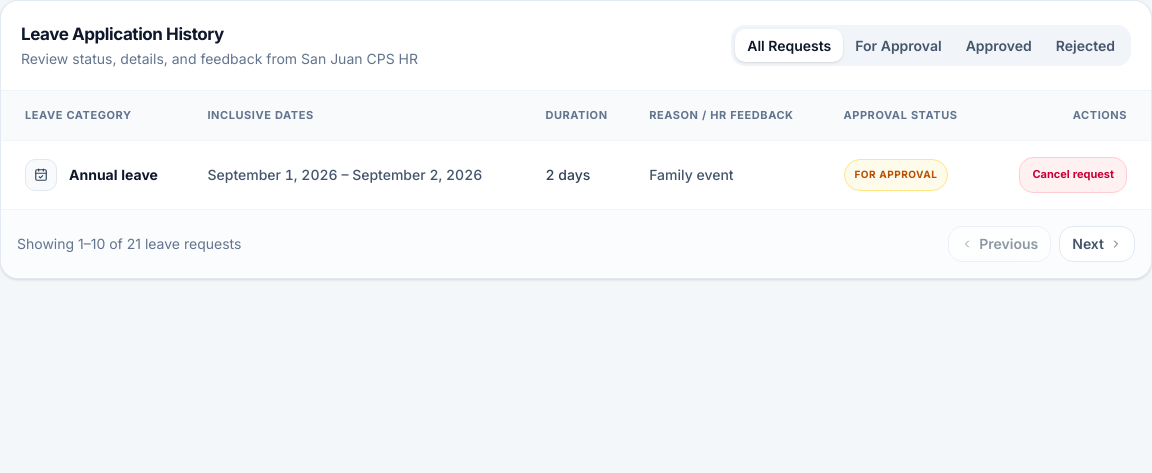
Scenario: EmployeeLeaveList › asks for confirmation and reports a failed cancellation without removing the request
The width and height of the screenshot is (1152, 473).
Click the button "Cancel request" at (1073, 175), box x1=1019 y1=157 x2=1127 y2=193
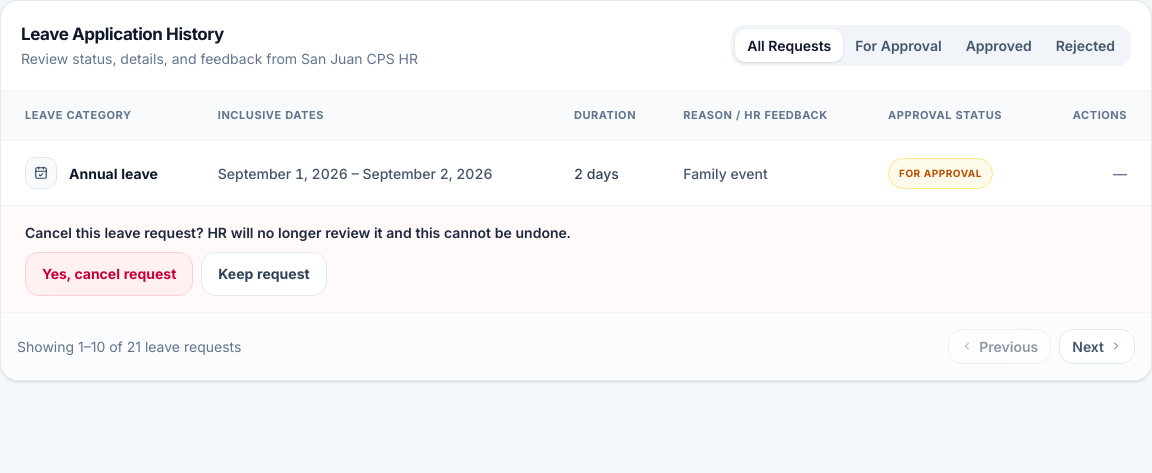
Check: the text "cannot be undone" is shown, box x1=25 y1=224 x2=570 y2=241
Click the button "Yes, cancel request" at (109, 274), box x1=25 y1=252 x2=193 y2=296
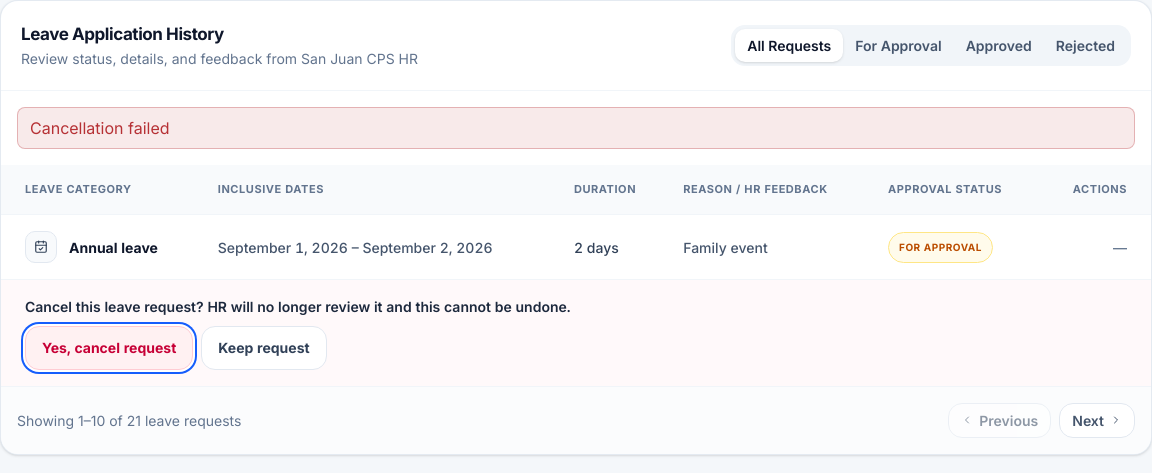
Check: the text "Annual leave" is shown, box x1=69 y1=237 x2=158 y2=258
Check: the message reads "Cancellation failed", box x1=30 y1=118 x2=170 y2=138
